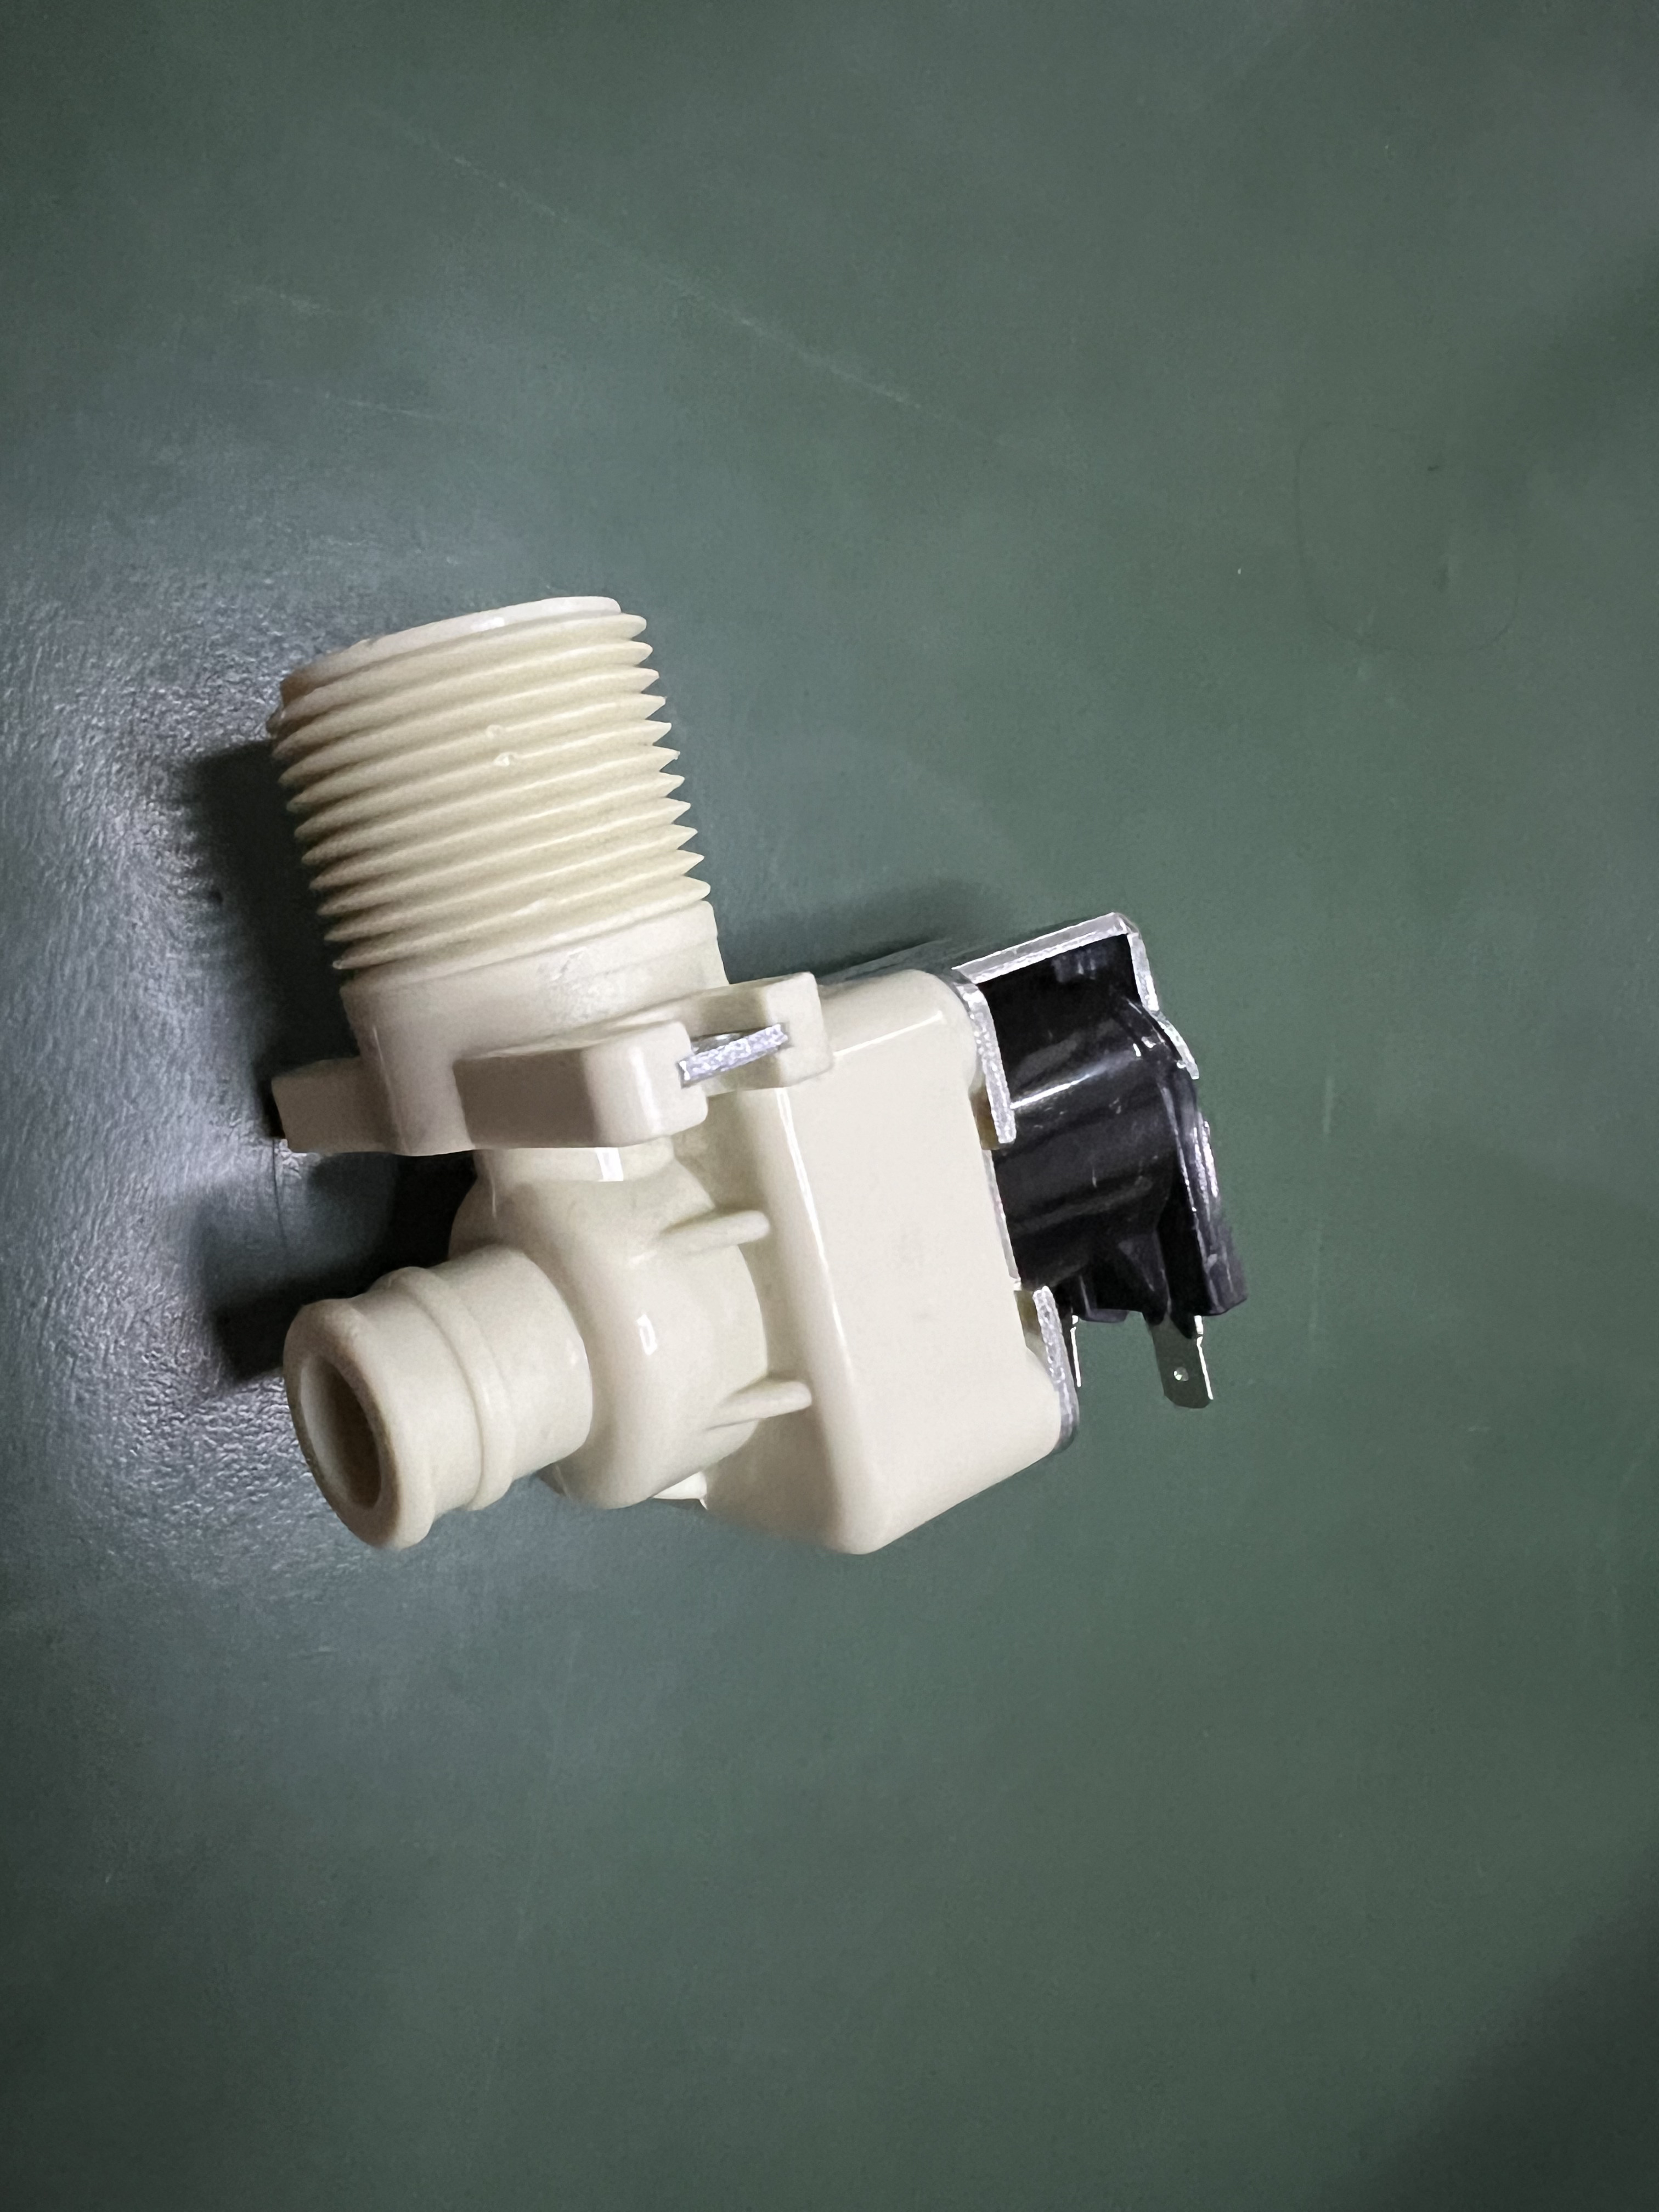godrej_inlet_valves: (199, 583, 1256, 1630)
